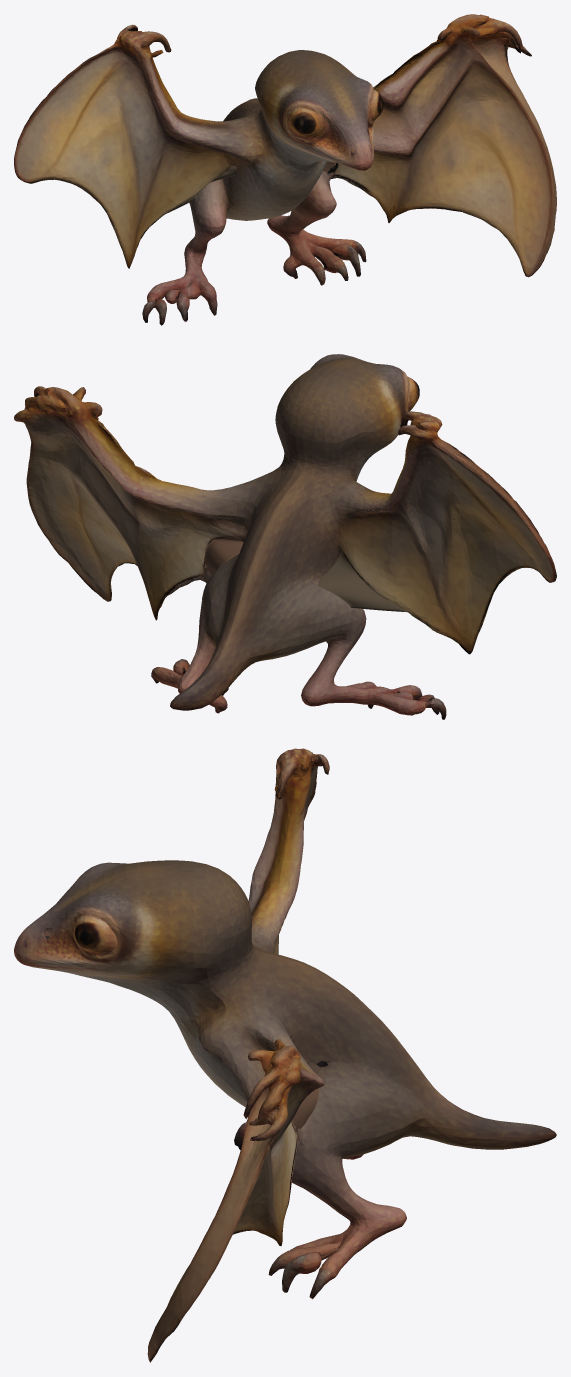
The picture shows the model from 3 angles, top to bottom: view 1: azimuth 30°, elevation 25°; view 2: azimuth 150°, elevation 25°; view 3: azimuth 270°, elevation 25°; orthographic projection. The views are drawn at different scales.
Visible parts, largest first — view 1: world; view 2: world, InnerMembrane_-1, InnerMembrane_1; view 3: world.
Part boxes in pixels (left/top/right/bottom): world: left=14, top=14, right=556, bottom=325; world: left=14, top=354, right=556, bottom=719; InnerMembrane_-1: left=318, top=553, right=407, bottom=612; InnerMembrane_1: left=205, top=537, right=243, bottom=574; world: left=14, top=748, right=556, bottom=1362.
Bounding box in the file's own units: 0.9957 × 0.5635 × 0.6919.
Materials: 3 (1 with a texture image).
